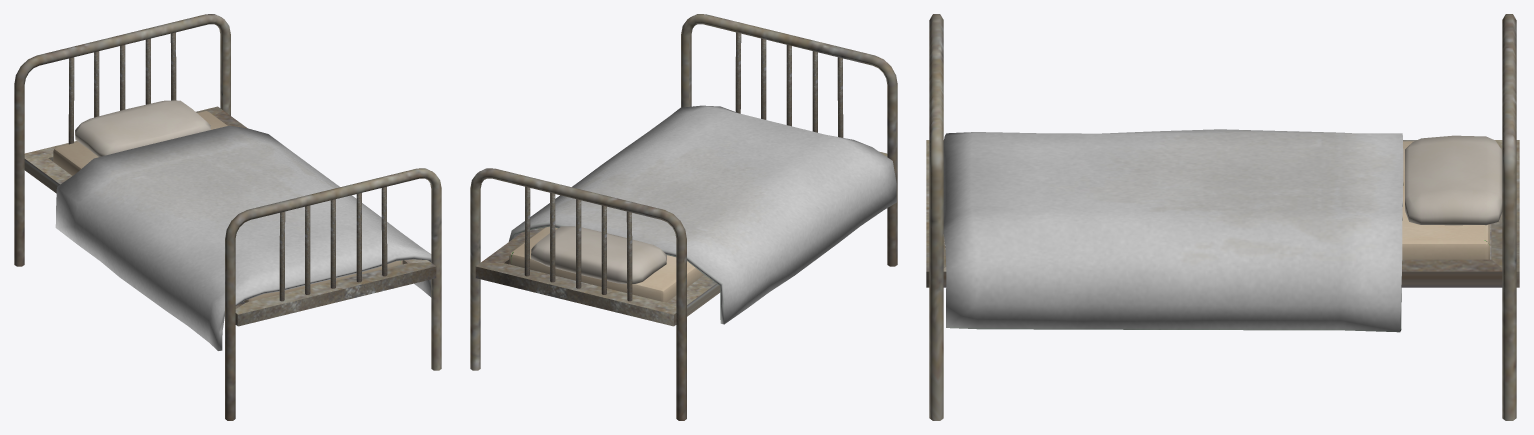
The model's file is bed 01.FBX.
3 views of the same model, side by side, from view 1: azimuth 30°, elevation 25°; view 2: azimuth 150°, elevation 25°; view 3: azimuth 270°, elevation 25° (orthographic). The views are drawn at different scales.
Parts seen in each view (by area): view 1: Plane001, bed, Box001, matress; view 2: Plane001, bed, Box001, matress; view 3: Plane001, bed, Box001, matress.
Boxes of the visible parts, left/top/right/bottom form: Plane001: left=55, top=125, right=431, bottom=350; bed: left=14, top=14, right=441, bottom=420; Box001: left=75, top=100, right=210, bottom=156; matress: left=53, top=111, right=402, bottom=302; Plane001: left=508, top=105, right=896, bottom=324; bed: left=470, top=14, right=897, bottom=420; Box001: left=531, top=226, right=666, bottom=283; matress: left=509, top=226, right=703, bottom=302; Plane001: left=943, top=129, right=1403, bottom=332; bed: left=926, top=14, right=1519, bottom=420; Box001: left=1405, top=135, right=1502, bottom=225; matress: left=1402, top=141, right=1489, bottom=259.
Bounding box in the file's own units: 1.24 × 1.08 × 2.1.
